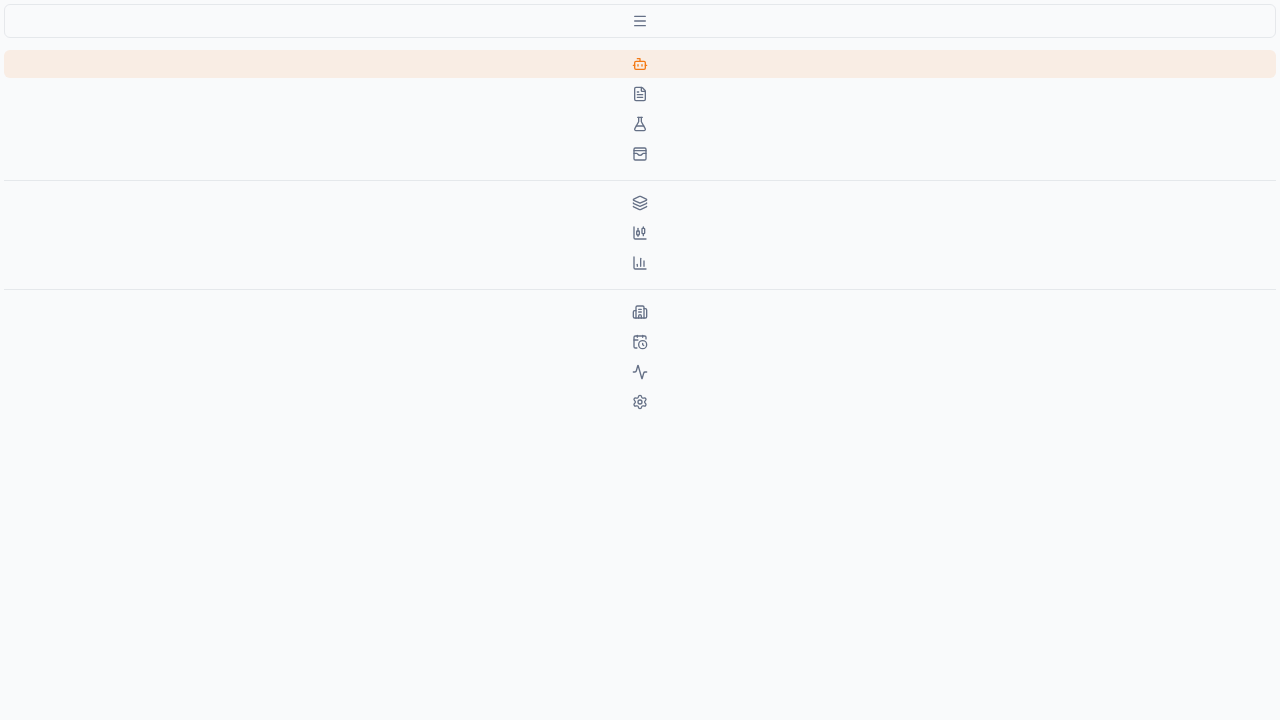
Test: opens a labeled feature menu in compact mode and returns focus on Escape
Click the button named "Browse features": (640, 21) 4,4 -> 1276,38
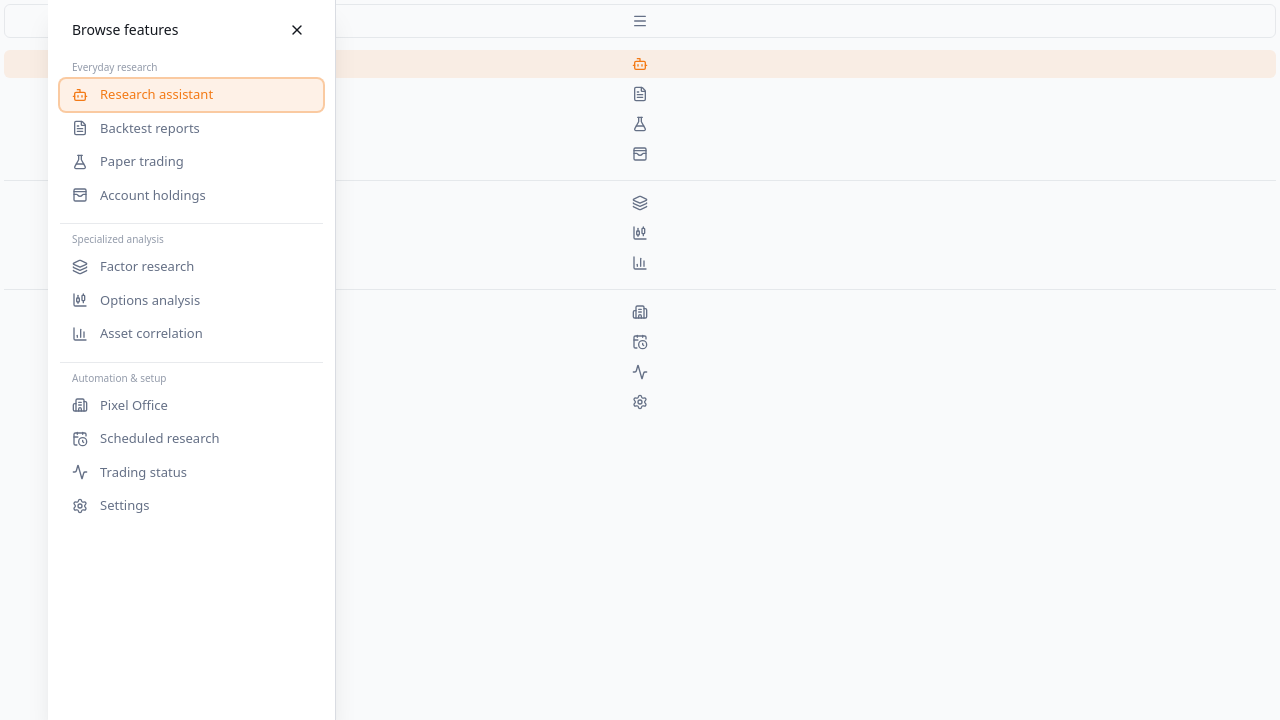
Check: the text "Options analysis" is shown, box 100,290 -> 200,310
Check: the text "Pixel Office" is shown, box 100,396 -> 168,415
Check: the text "Trading status" is shown, box 100,462 -> 187,482
Press Escape
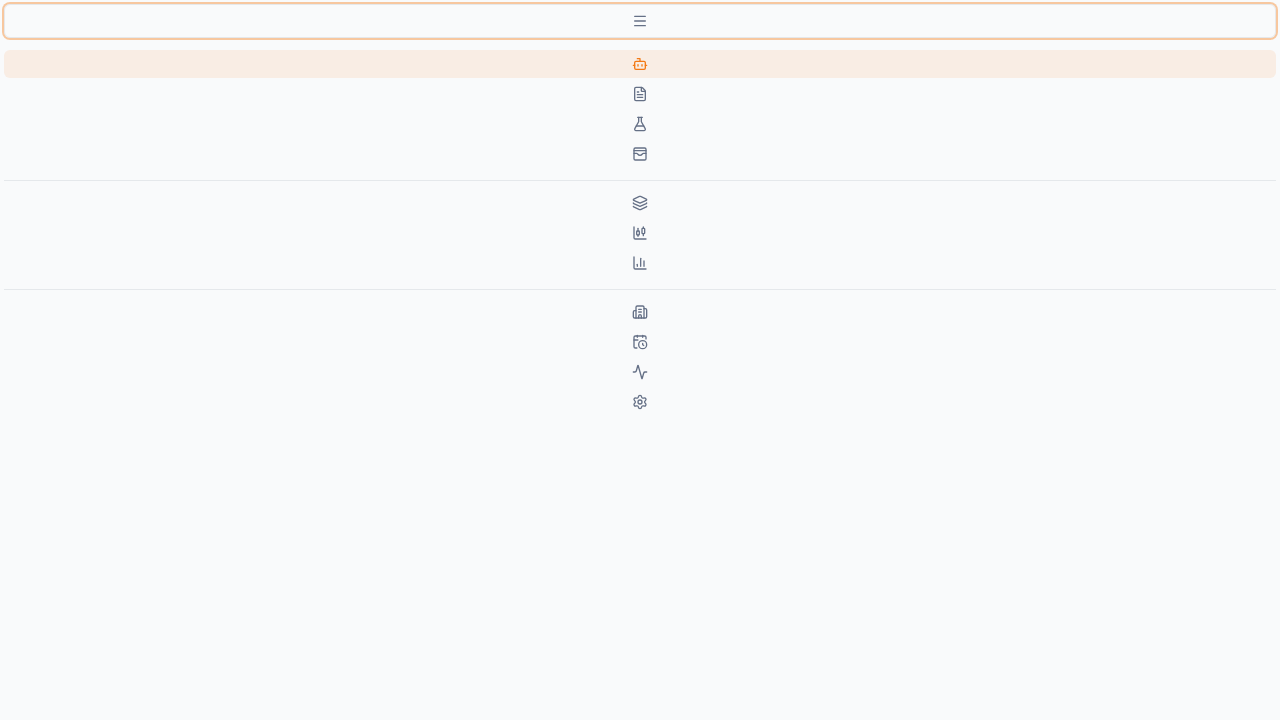
Check: the navigation bar "Browse features" is gone
